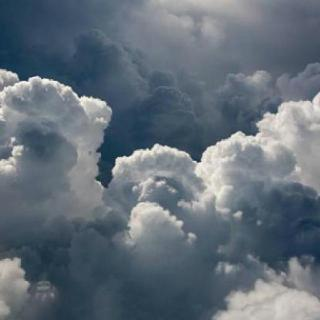Cumulus: (0, 44, 320, 320)
